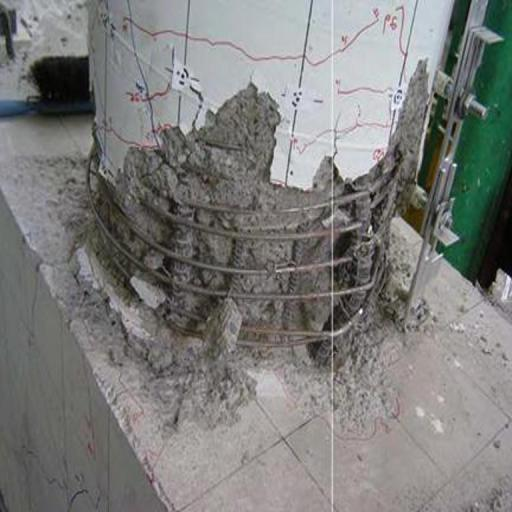spalling: (94, 58, 431, 364)
